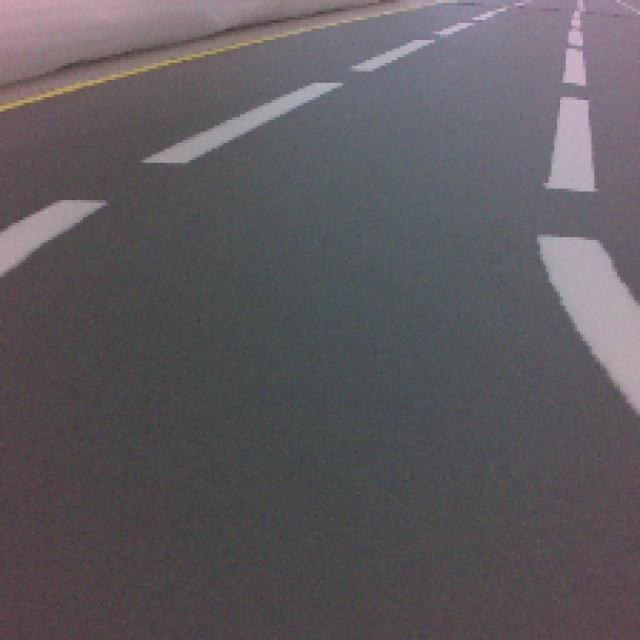Road: (0, 419, 638, 636)
